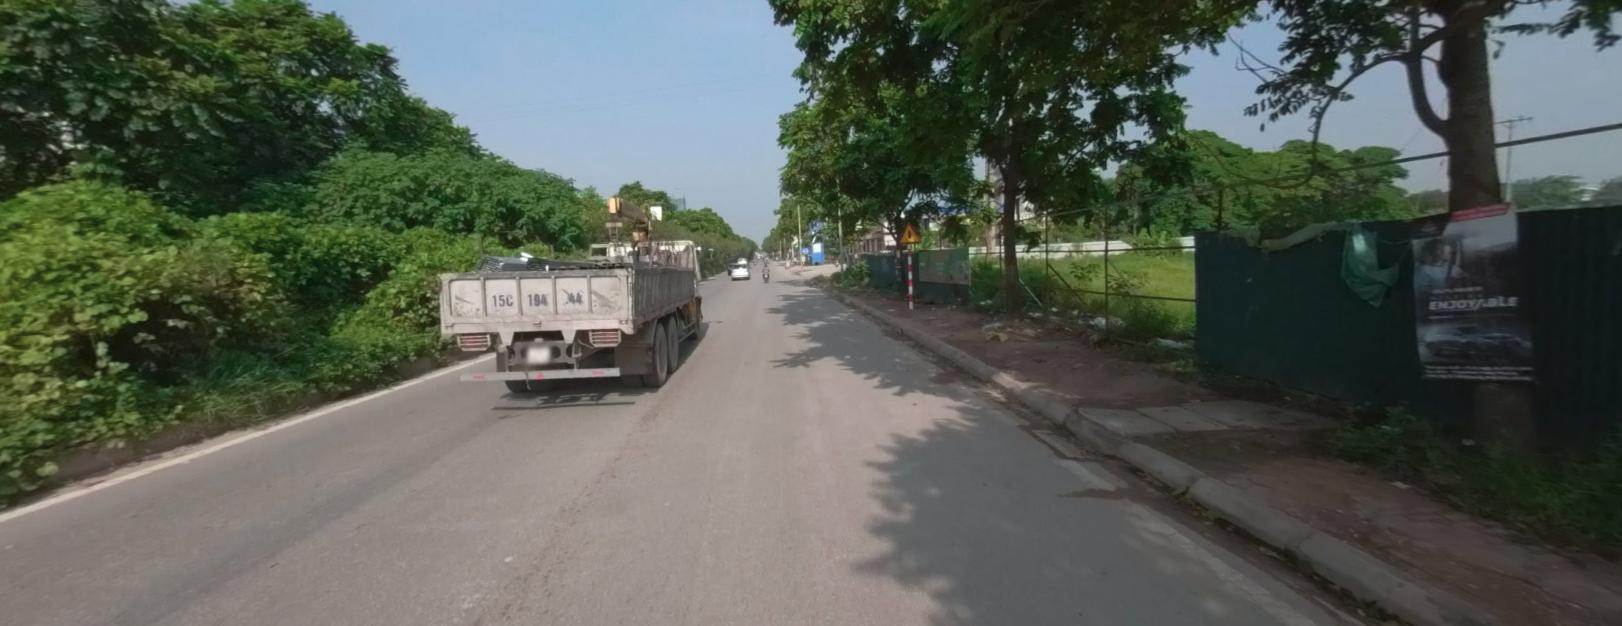Nguy hiem: (899, 220, 921, 241)
